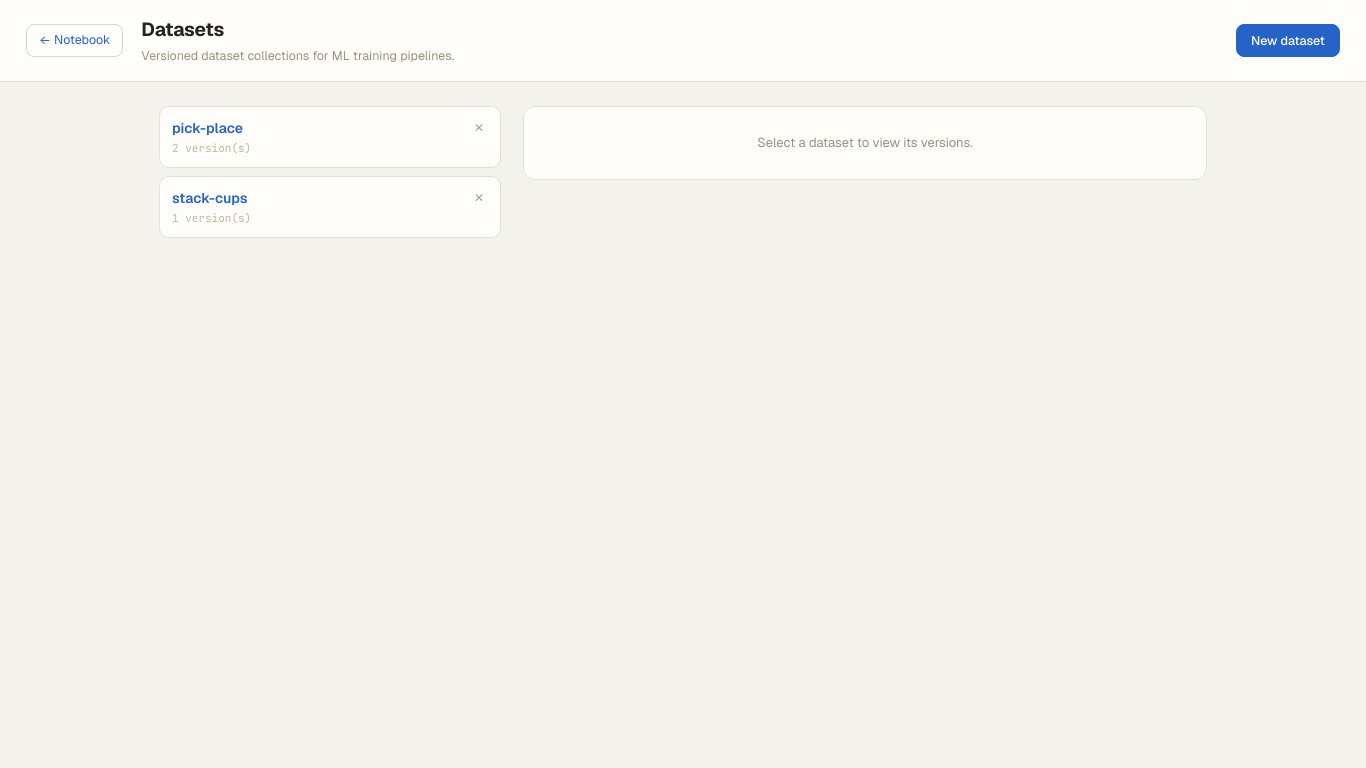
notebook Datasets page › drops the error when its dataset is deleted, not another one
The image size is (1366, 768).
Click the text "pick-place" at x=208, y=128, box x1=172 y1=119 x2=243 y2=137
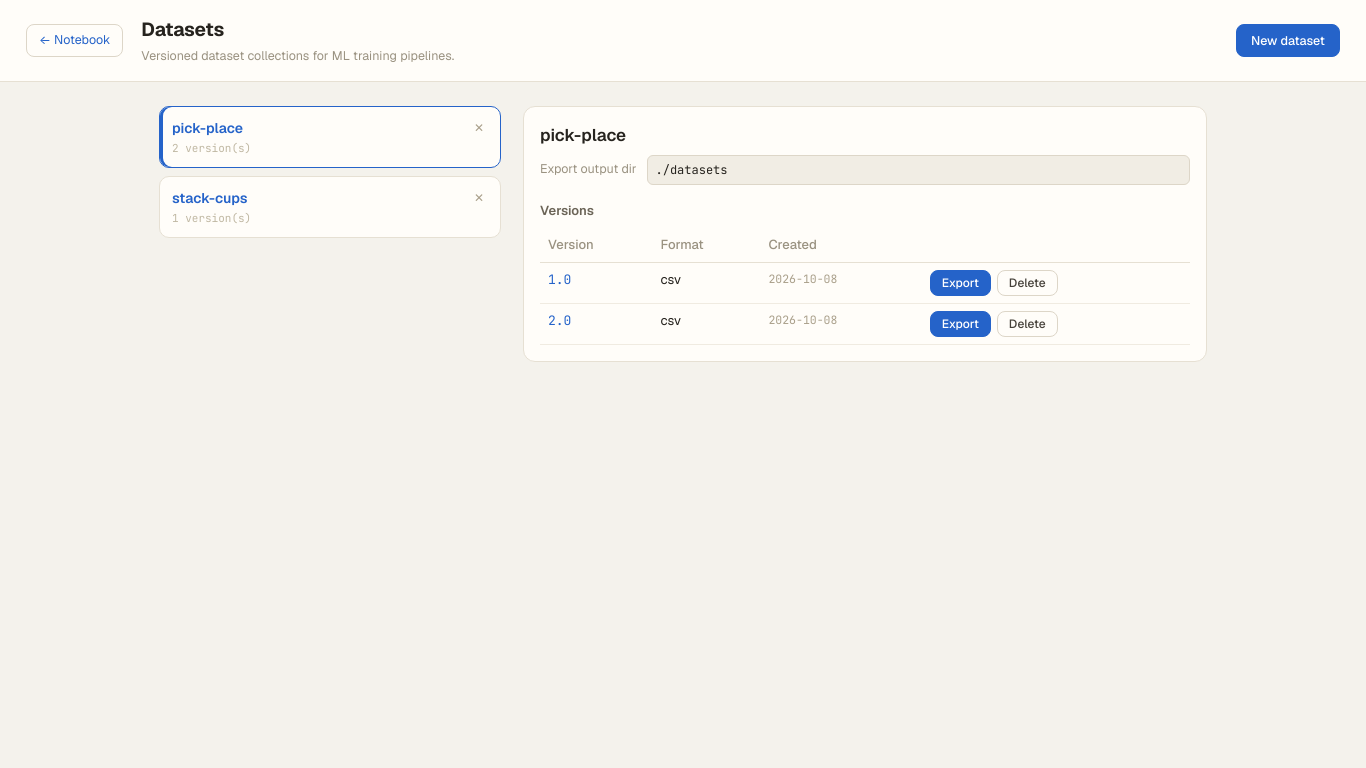
Click the button "Export" in the row of "1.0" at x=960, y=283, box x1=930 y1=270 x2=991 y2=296
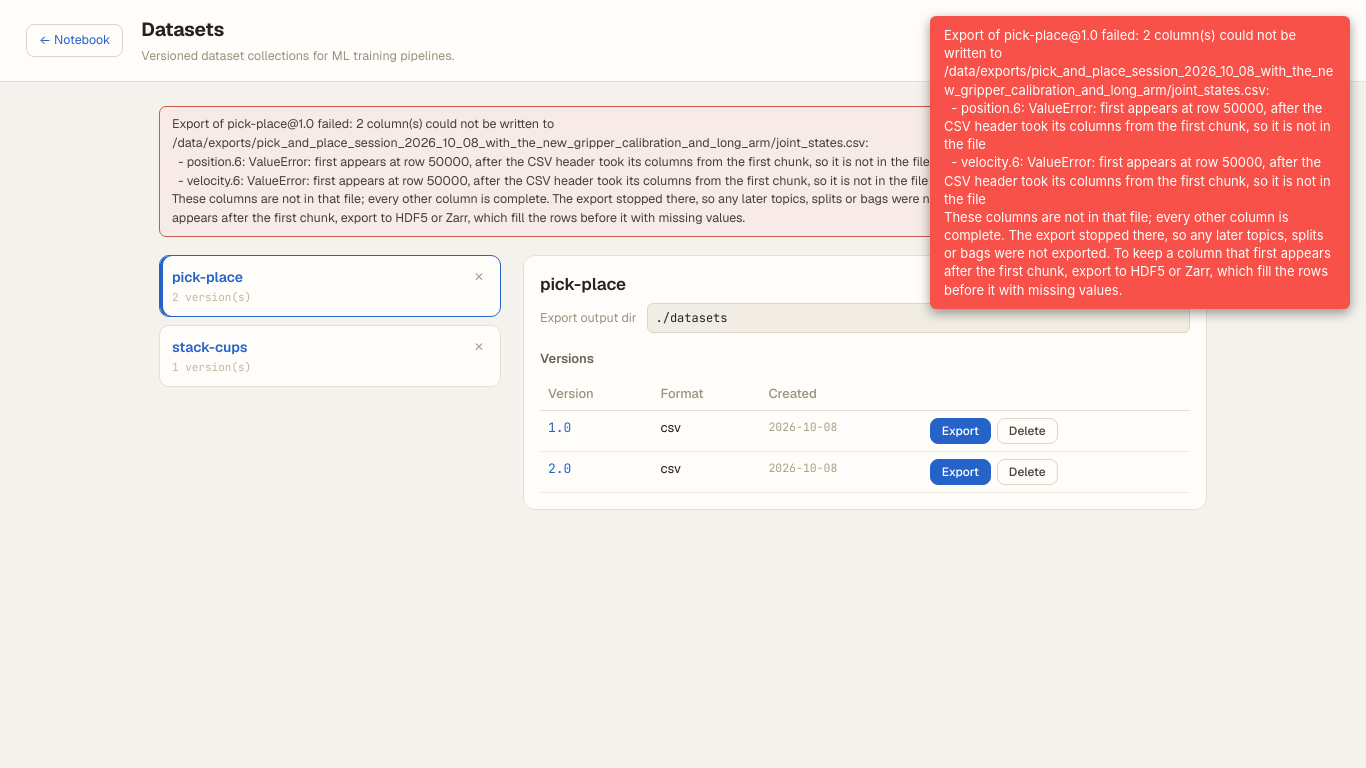
Click the 2nd button "✕" at x=479, y=347, box x1=474 y1=339 x2=484 y2=355
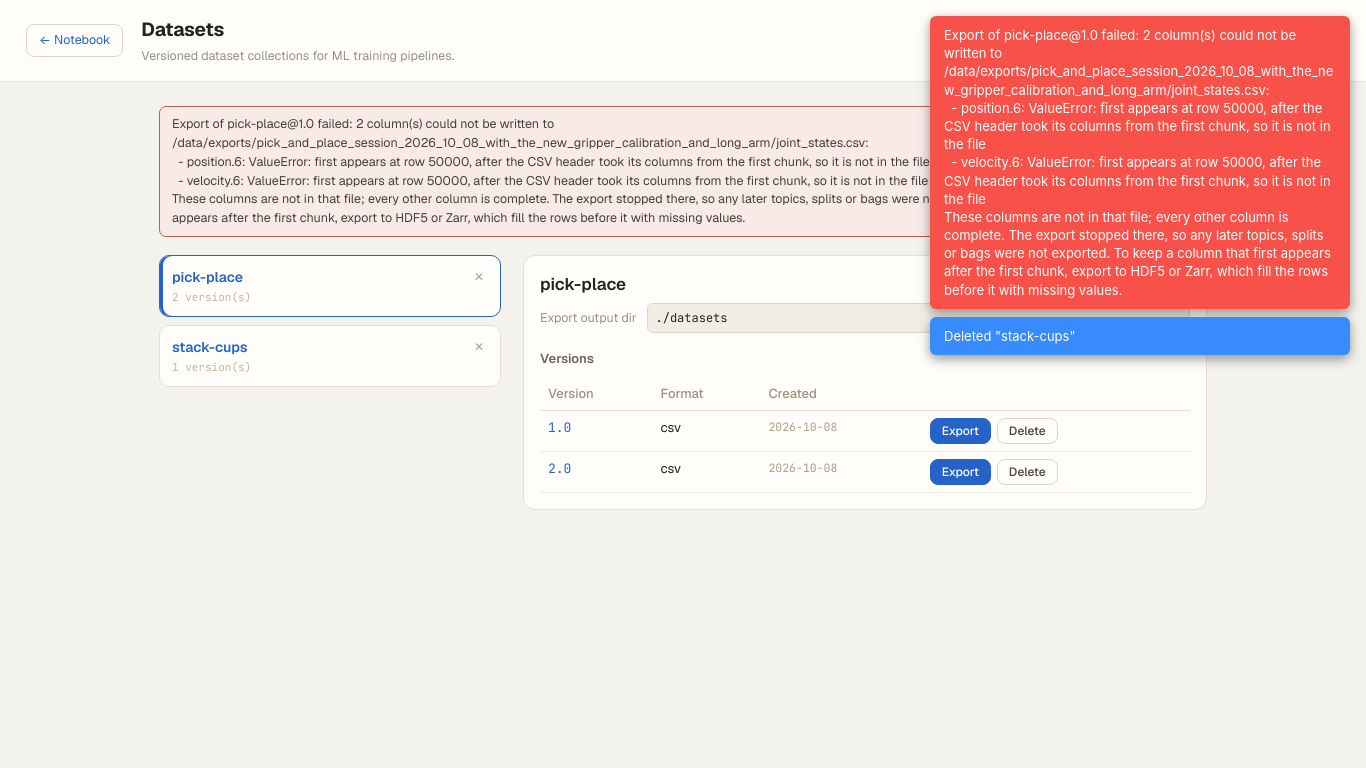
Now the text "Deleted \"stack-cups\"" is shown, box x1=930 y1=317 x2=1350 y2=355
Click the 1st button "✕" at x=479, y=277, box x1=474 y1=269 x2=484 y2=285
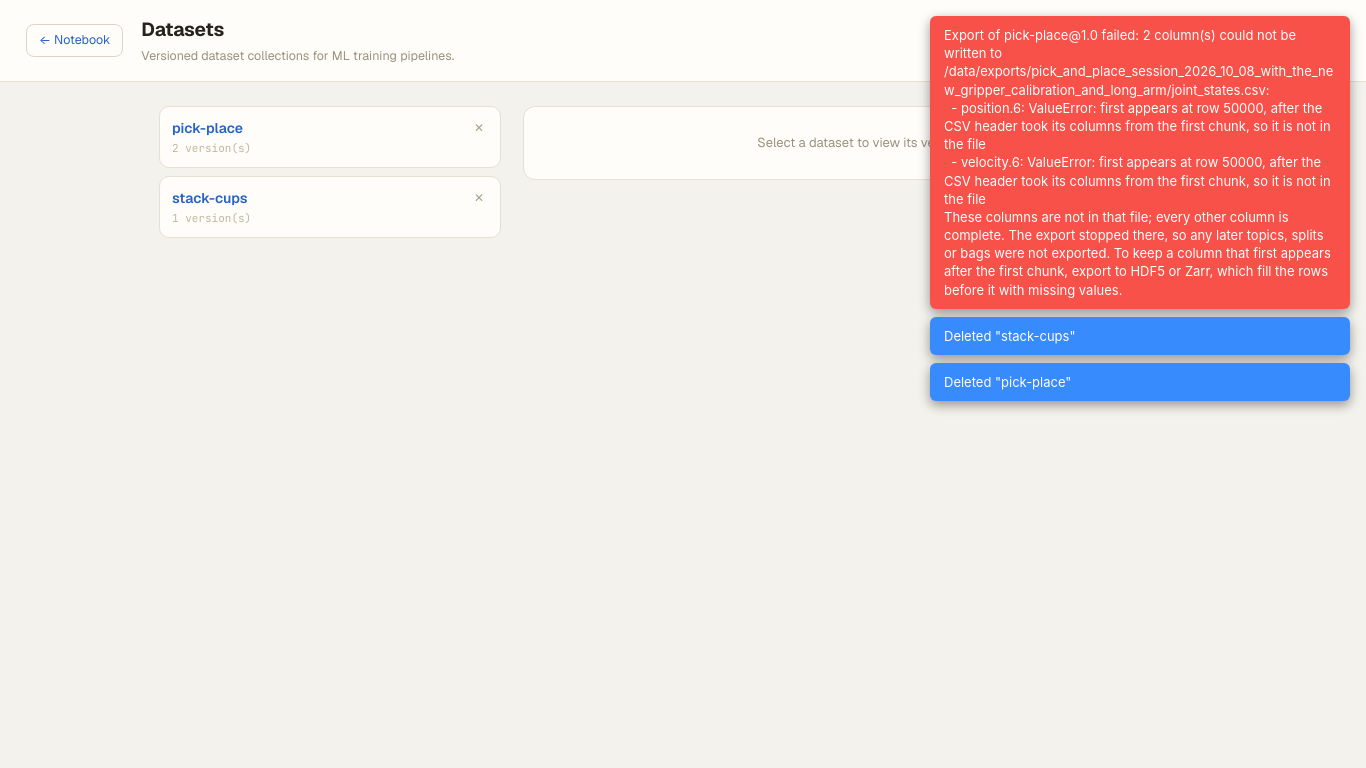
Now the text "Deleted \"pick-place\"" is shown, box x1=930 y1=363 x2=1350 y2=401
Now the text with test id "export-failure" is gone
